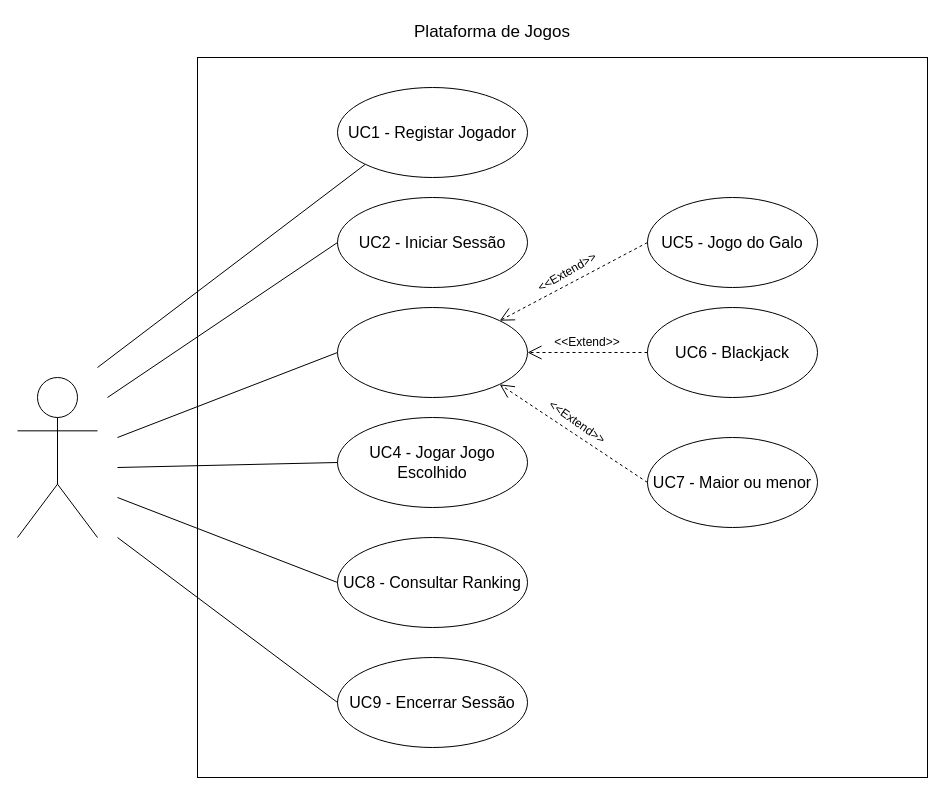
The diagram is 945 pixels wide and 795 high, and some of its shapes have lost their labels. The centre of each missing label's shape, as x and y in pixels:
Jogador: the point at 57,457
UC3 - Escolher Jogo: the point at 432,352
